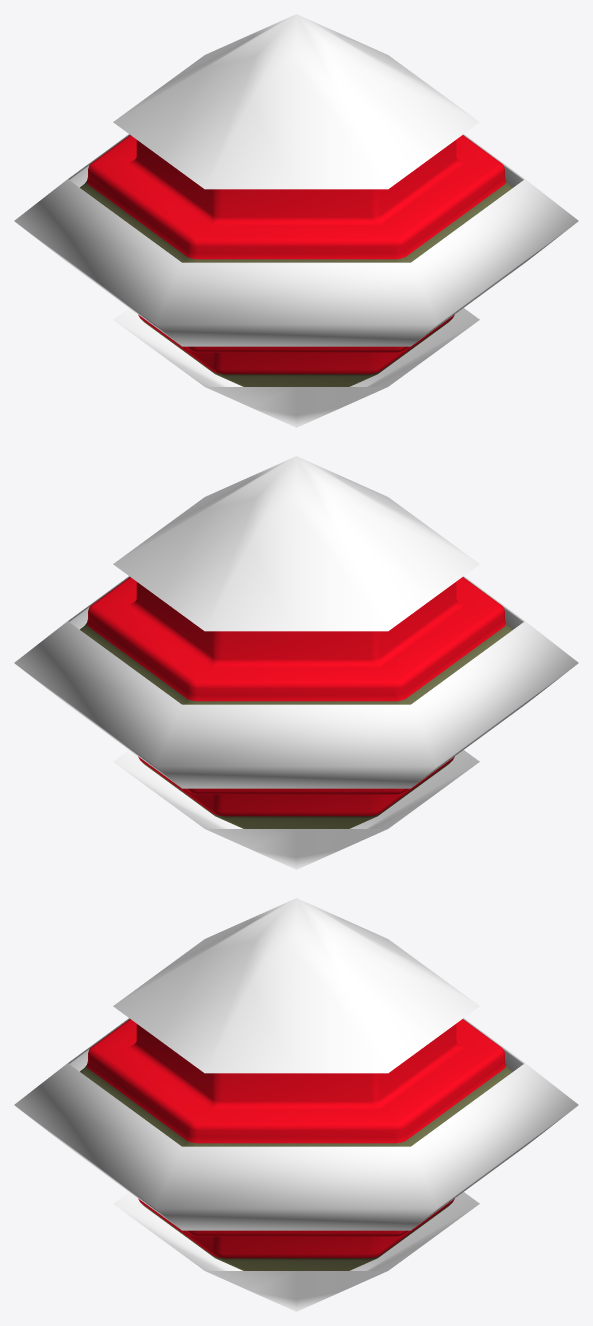
Rendered from Drone.fbx.
3 renders of one model, top to bottom at view 1: azimuth 30°, elevation 25°; view 2: azimuth 150°, elevation 25°; view 3: azimuth 270°, elevation 25°, orthographic.
Parts seen in each view (by area): view 1: SpikefX, CircleFX, Body; view 2: SpikefX, CircleFX, Body; view 3: SpikefX, CircleFX, Body.
Boxes of the visible parts, box(x1,y1,x2,y2) form: SpikefX: box(113, 14, 479, 427); CircleFX: box(14, 134, 578, 346); Body: box(80, 135, 512, 386); SpikefX: box(113, 456, 479, 869); CircleFX: box(14, 576, 578, 788); Body: box(80, 577, 512, 828); SpikefX: box(113, 898, 479, 1311); CircleFX: box(14, 1018, 578, 1230); Body: box(80, 1019, 512, 1270).
Bounding box in the file's own units: 233 × 217 × 269.
